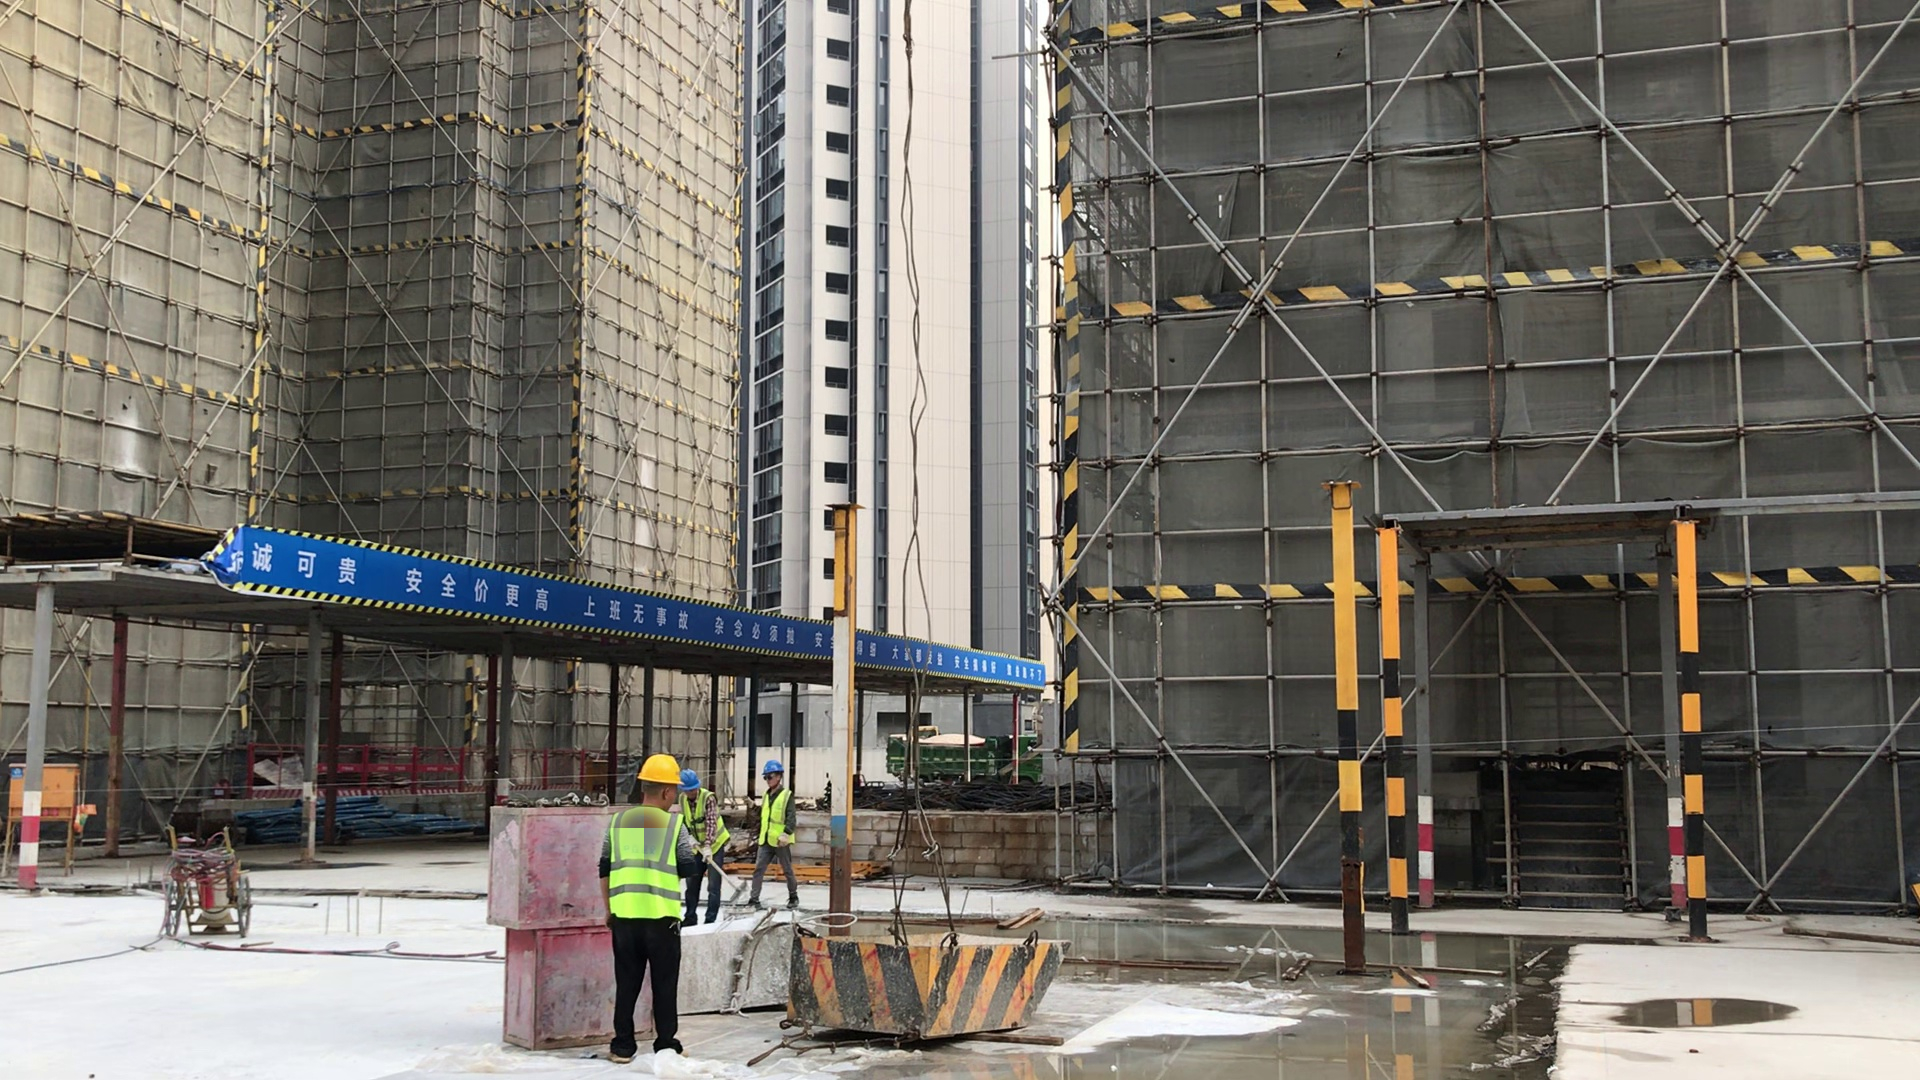ebox: (6, 760, 86, 822)
fence: (250, 746, 612, 793)
handcart: (162, 827, 250, 943)
helmet: (637, 756, 681, 787), (677, 770, 700, 791), (762, 760, 785, 775)
hopper: (788, 929, 1062, 1039), (671, 918, 811, 1014)
person: (597, 754, 699, 1062), (675, 769, 730, 927), (745, 760, 801, 909)
slogan: (221, 526, 1052, 691)
vest: (607, 808, 682, 920), (680, 790, 730, 854), (758, 788, 792, 848)
